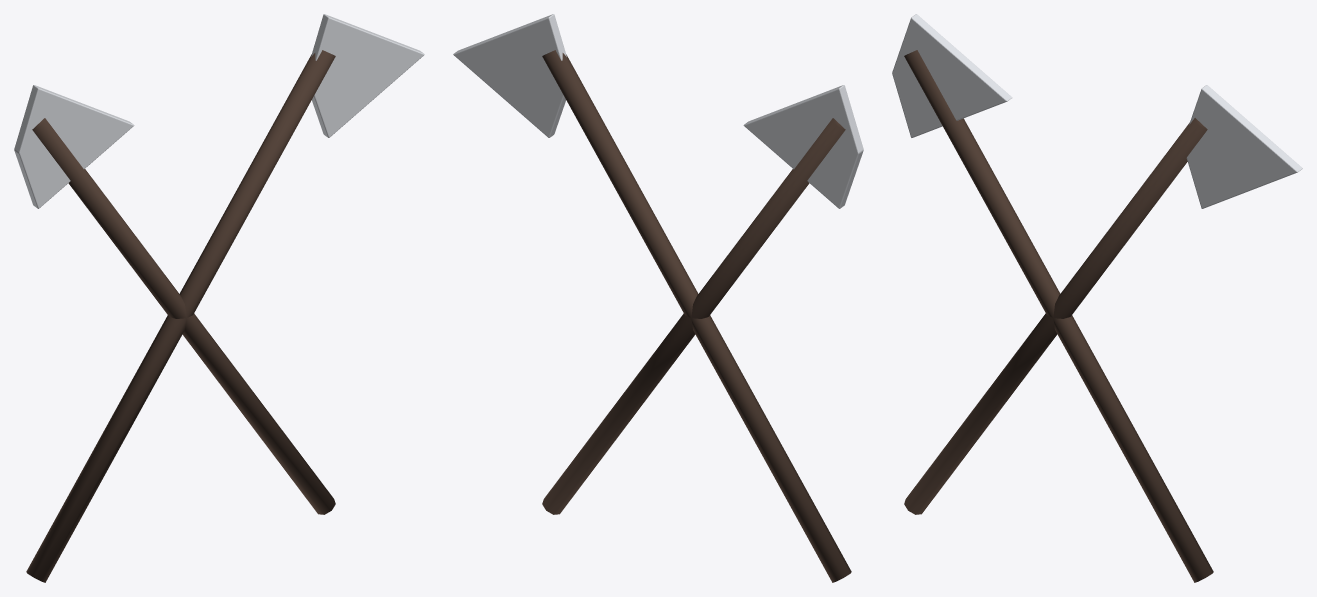
The model's file is wall_gear_axes_crossed.glb.
The picture shows the model from 3 angles, left to right: view 1: azimuth 30°, elevation 25°; view 2: azimuth 150°, elevation 25°; view 3: azimuth 330°, elevation 25°; orthographic projection.
Visible parts, largest first — view 1: GD_wall_gear_axes_crossed__m0, GD_wall_gear_axes_crossed__m1; view 2: GD_wall_gear_axes_crossed__m0, GD_wall_gear_axes_crossed__m1; view 3: GD_wall_gear_axes_crossed__m0, GD_wall_gear_axes_crossed__m1.
Part boxes in pixels (x1,y1,x2,y2): GD_wall_gear_axes_crossed__m0: (26,50,335,582); GD_wall_gear_axes_crossed__m1: (14,14,424,208); GD_wall_gear_axes_crossed__m0: (542,50,851,582); GD_wall_gear_axes_crossed__m1: (453,14,863,208); GD_wall_gear_axes_crossed__m0: (904,50,1213,582); GD_wall_gear_axes_crossed__m1: (892,14,1302,208).
Size of the model in its own units: 0.8386 by 0.9803 by 0.04.
